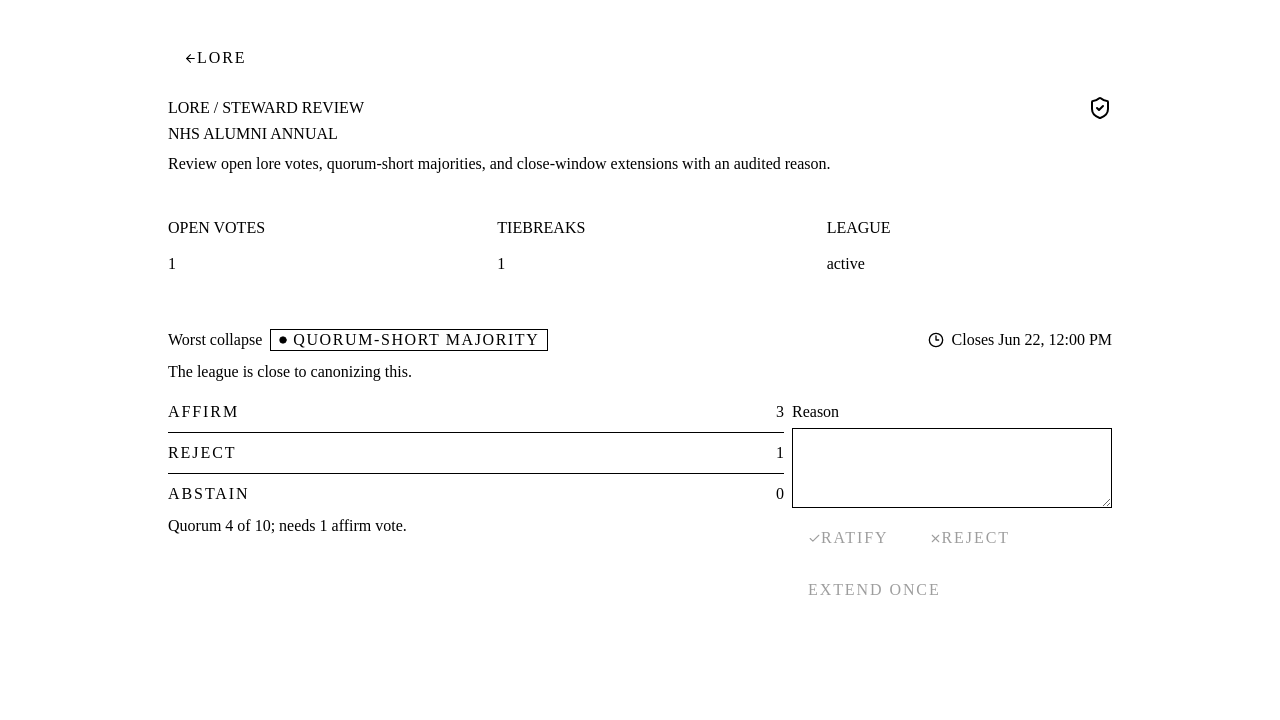
Scenario: LoreStewardReviewView › surfaces quorum-short tiebreaks and posts steward actions
The image size is (1280, 720).
Expected: the text "Quorum-short majority" is shown, [293,332,539,348]
Expected: the text "Quorum 4 of 10; needs 1 affirm vote." is shown, [168,517,407,534]
In the text box labelled "Reason": [952, 468] box [792,428,1112,508], type "Clear majority, short by one absent manager."
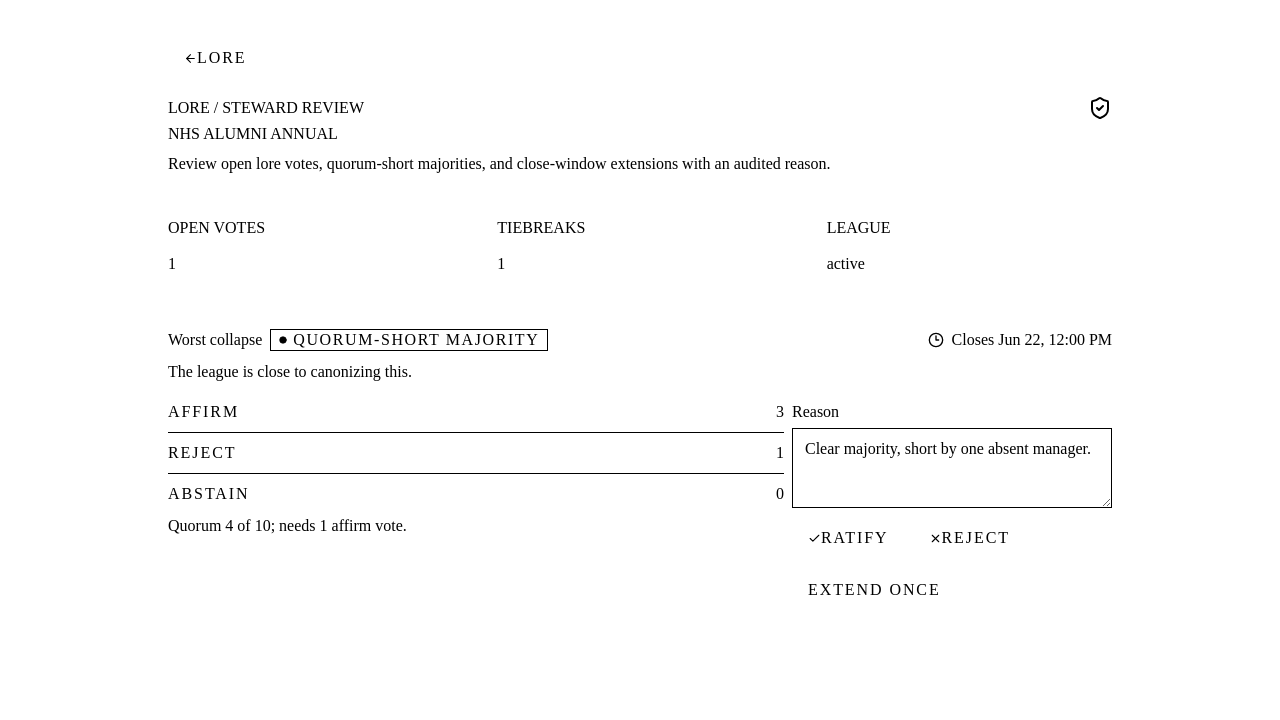
Click the button "Ratify": [848, 538] box [792,516,904,560]
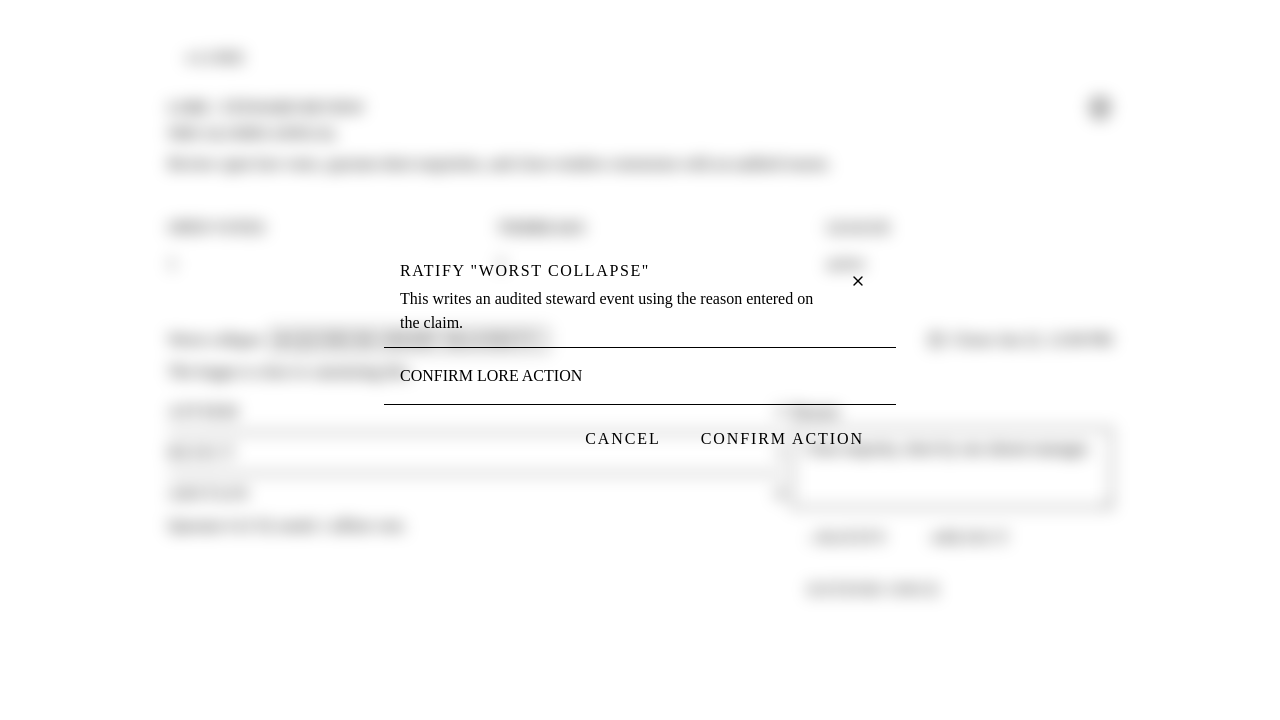
Expected: the dialog is shown, [384,247,896,473]
Click the button "Confirm action": [782, 439] box [685,417,880,461]
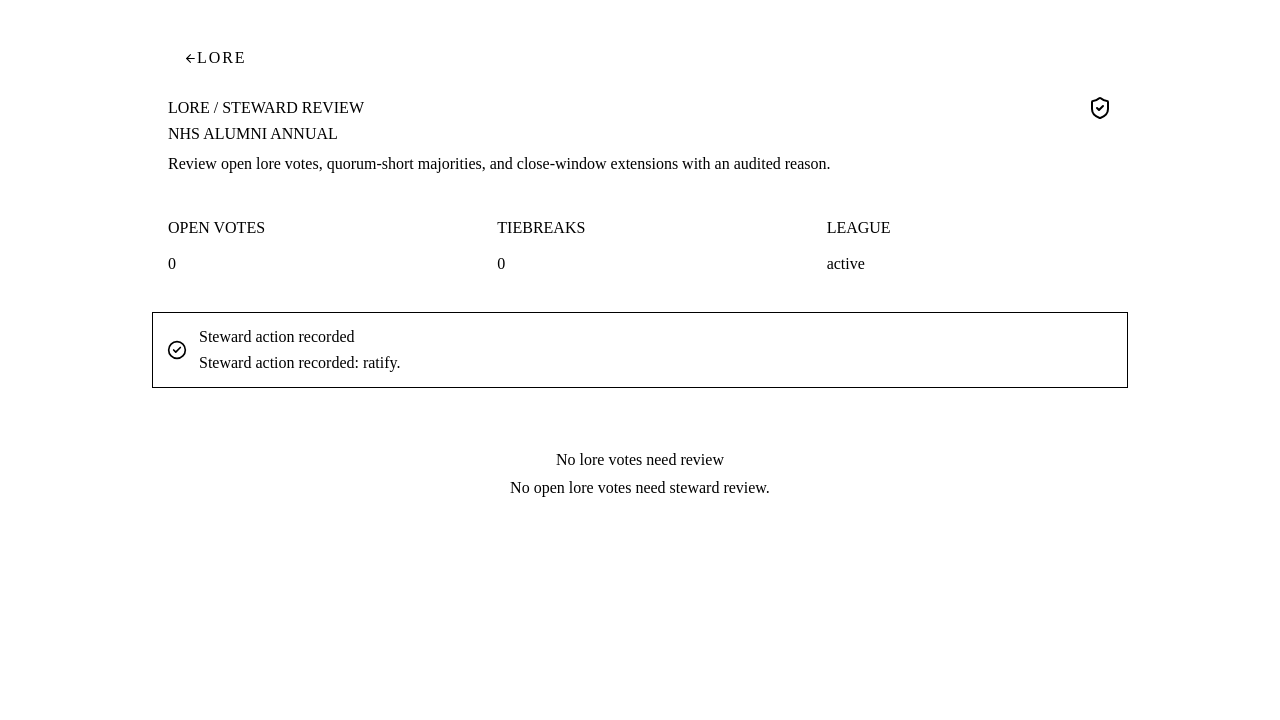
Expected: the text "Steward action recorded: ratify." is shown, [199,354,400,371]
Expected: the text "No open lore votes need steward review." is shown, [510,476,770,500]
